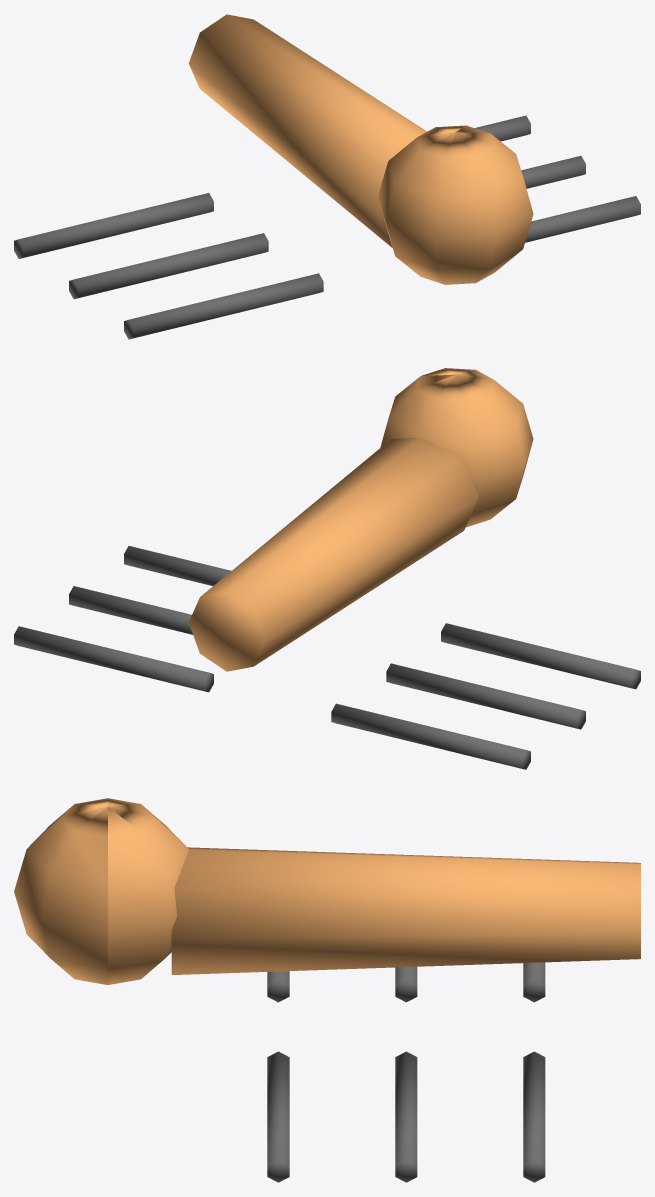
File: 2aa12eab-d13e-431d-9d33-f43d11d0d6b2.glb
The picture shows the model from 3 angles, top to bottom: view 1: azimuth 30°, elevation 25°; view 2: azimuth 150°, elevation 25°; view 3: azimuth 270°, elevation 25°; orthographic projection. The views are drawn at different scales.
Visible parts, largest first — view 1: Generated3DMesh; view 2: Generated3DMesh; view 3: Generated3DMesh.
Part boxes in pixels (x1=…): Generated3DMesh: x1=14, y1=14, x2=640, y2=339; Generated3DMesh: x1=14, y1=368, x2=640, y2=769; Generated3DMesh: x1=14, y1=798, x2=640, y2=1182.
Bounding box in the file's own units: 1.6 × 0.6 × 1.47.
